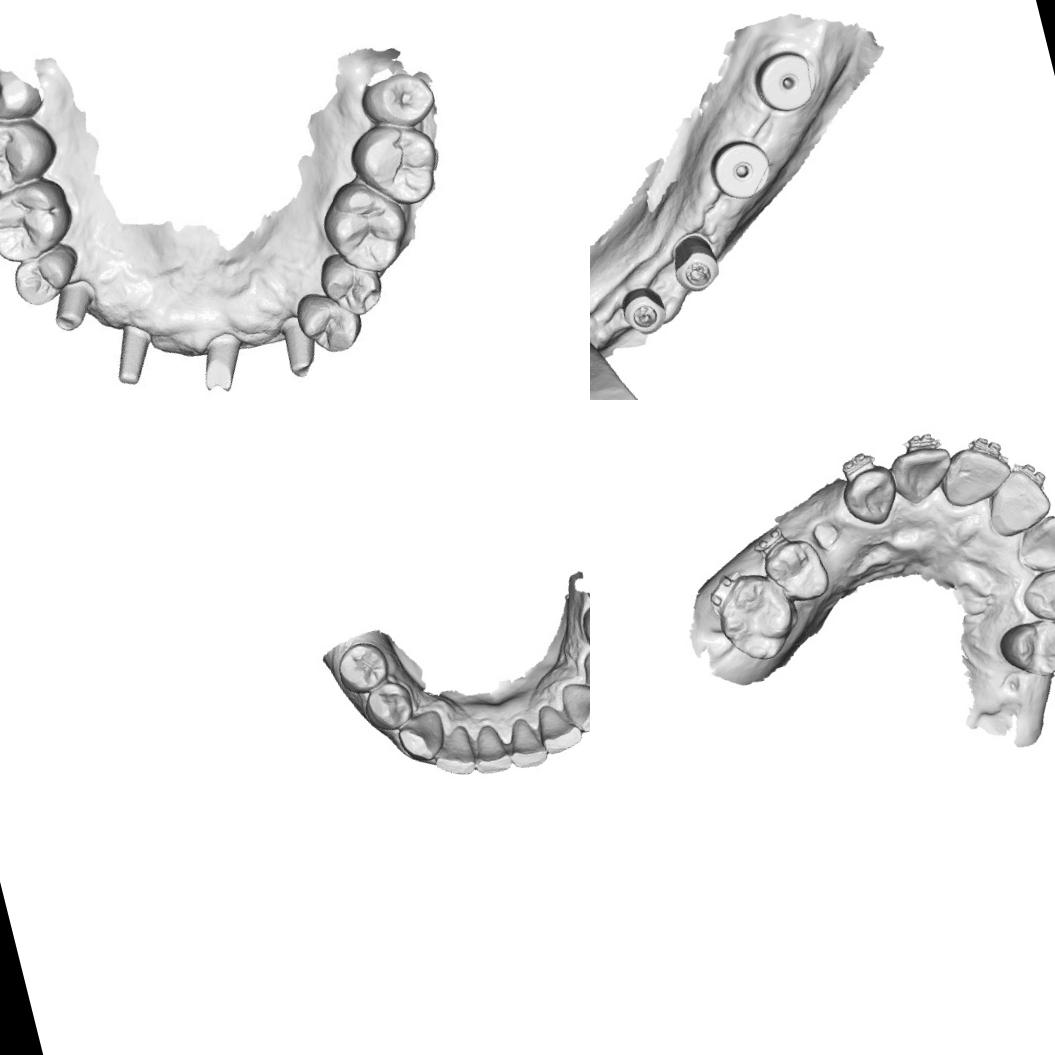abutment: (189, 320, 253, 400), (101, 314, 166, 392), (270, 310, 320, 382), (45, 273, 104, 334)
canine: (837, 462, 901, 533), (392, 704, 451, 768), (1018, 563, 1055, 627), (555, 672, 590, 737)
implant: (748, 42, 822, 119), (704, 131, 778, 206), (665, 228, 724, 296), (615, 280, 674, 340)
incisor: (975, 461, 1055, 540), (934, 438, 1014, 512), (887, 441, 956, 506), (424, 721, 480, 782), (1007, 508, 1055, 578), (498, 710, 551, 773), (532, 696, 585, 756), (464, 717, 513, 778), (590, 352, 646, 400)
molar: (310, 170, 419, 283), (342, 112, 446, 215), (712, 568, 804, 670), (0, 172, 80, 269), (354, 63, 438, 140), (0, 107, 60, 199)
premolar: (310, 240, 389, 322), (288, 282, 368, 362), (6, 239, 88, 310), (759, 532, 832, 610), (993, 611, 1055, 685), (329, 635, 394, 699), (356, 675, 419, 737), (575, 594, 590, 659), (578, 642, 590, 702)
